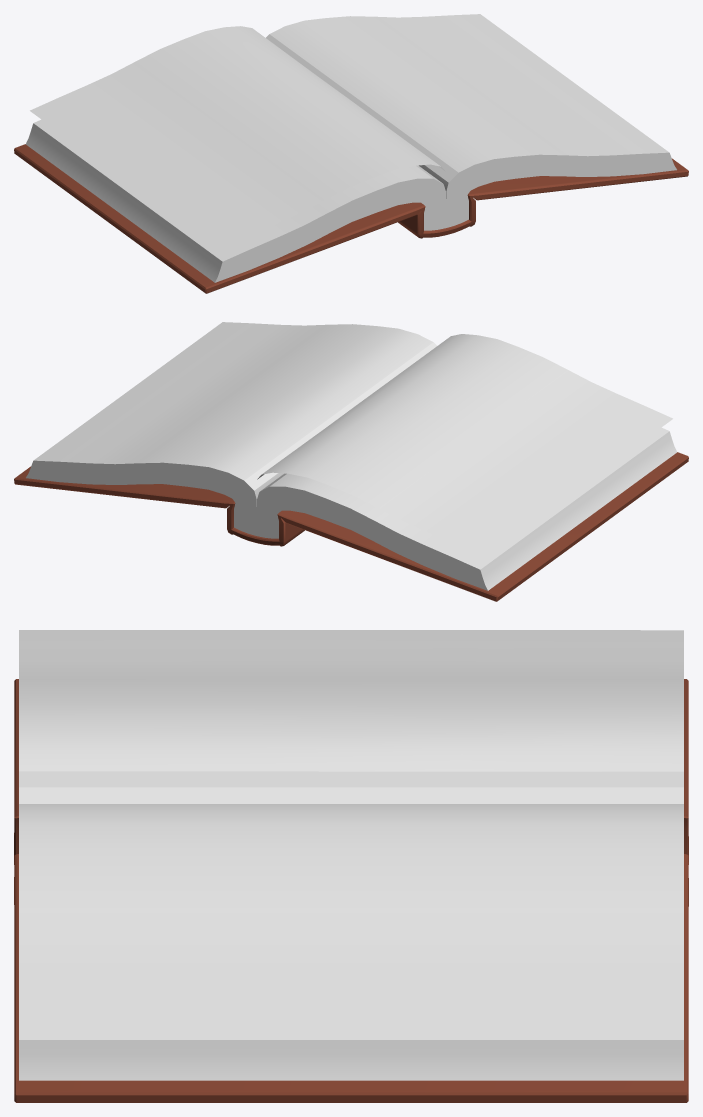
Rendered from book.fbx.
3 renders of one model, top to bottom at view 1: azimuth 30°, elevation 25°; view 2: azimuth 150°, elevation 25°; view 3: azimuth 270°, elevation 25°, orthographic. The views are drawn at different scales.
Visible parts, largest first — view 1: book, book content, book cover and side; view 2: book, book content, book cover and side; view 3: book content, book, book cover and side.
Part boxes in pixels (box(x1,y1,x2,y2)): book: box(30, 26, 445, 248); book content: box(33, 14, 669, 261); book cover and side: box(14, 123, 688, 293); book: box(257, 334, 672, 556); book content: box(33, 322, 669, 569); book cover and side: box(14, 431, 688, 601); book content: box(19, 787, 683, 1039); book: box(19, 630, 683, 787); book cover and side: box(14, 679, 688, 1102).
Bounding box in the file's own units: 125 × 19.48 × 86.17.
